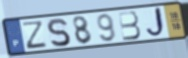8: (72, 15, 94, 45)
9: (96, 13, 118, 43)
B: (116, 10, 142, 42)
J: (144, 6, 167, 39)
S: (46, 17, 73, 49)
Z: (22, 20, 48, 51)
